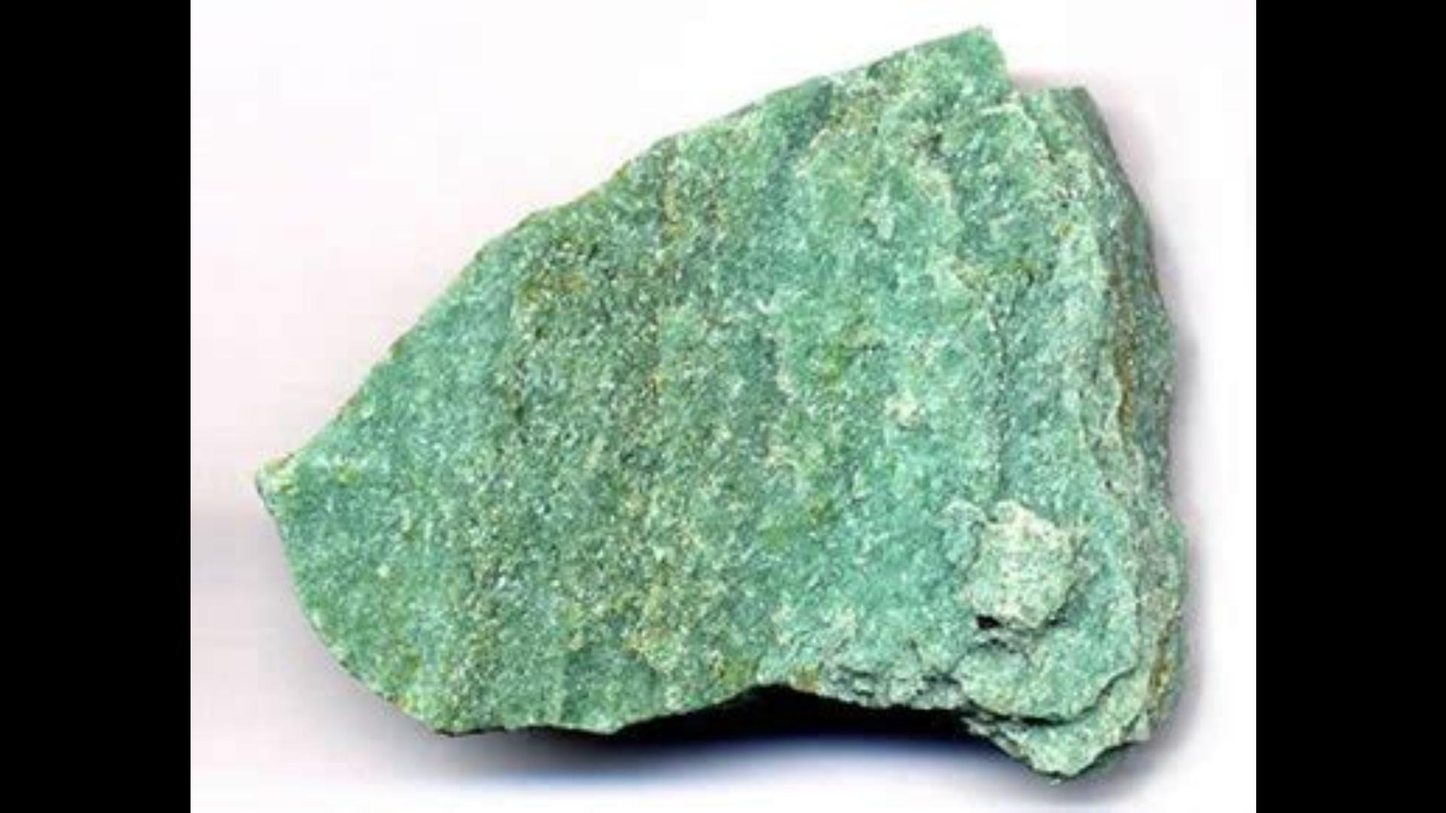rock: (260, 36, 1180, 774)
